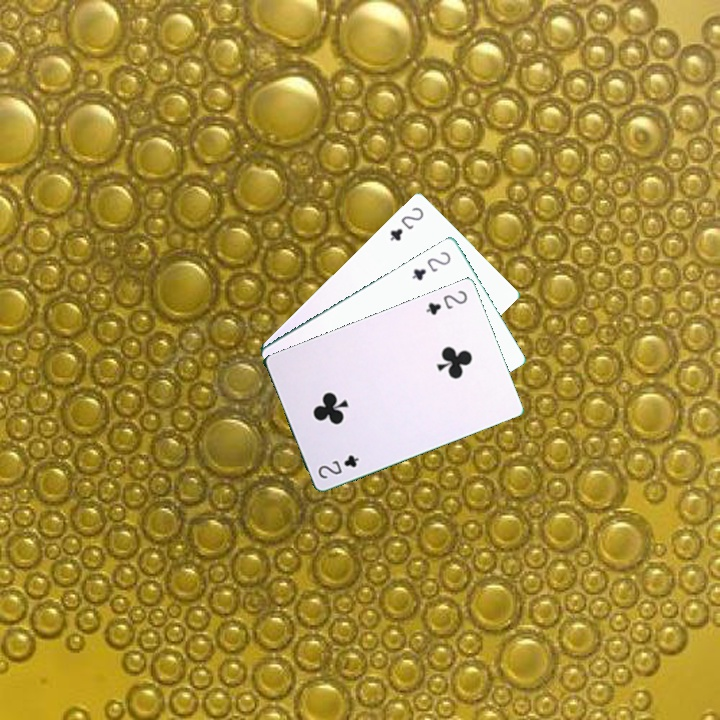2c: (386, 203, 426, 244), (408, 247, 453, 283), (422, 286, 470, 318), (314, 450, 362, 481)
